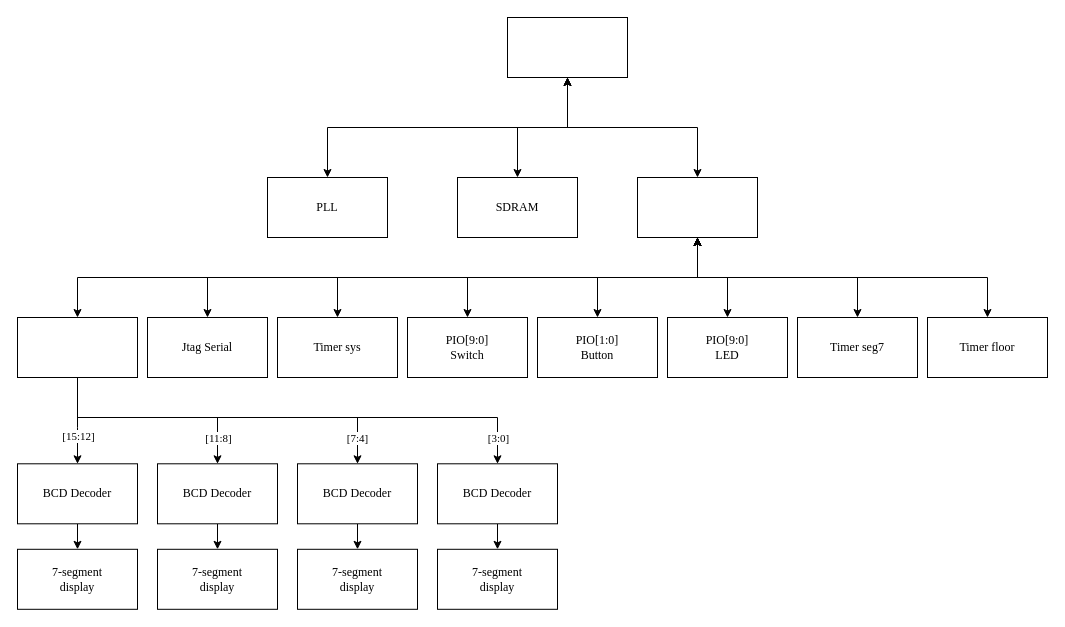
Image size: 1065x627. Some labels were removed from this diagram. Here are the shapes that lost their labels. From the top down, the box of each, then its label:
(506, 16, 628, 78): NIOS2 CPU
(636, 176, 758, 238): APB
(16, 316, 138, 378): PIO[15:0] SEG7_BCD
